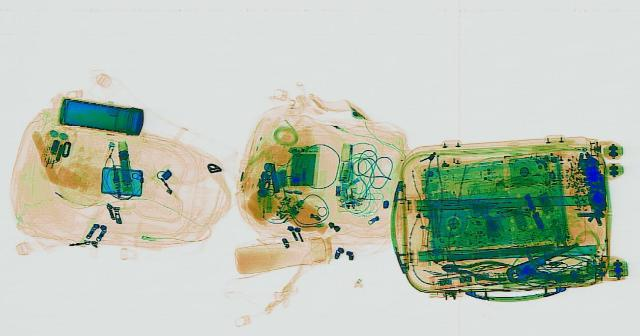Pliers: (493, 241, 602, 288), (438, 256, 512, 279)
